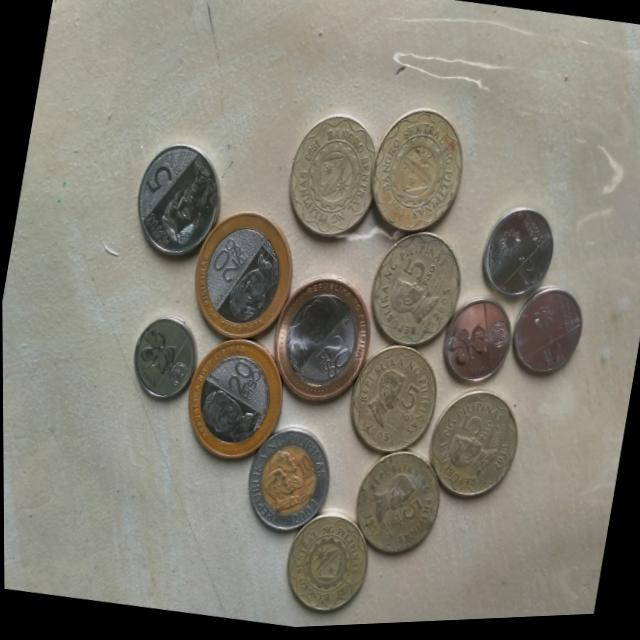10_Old_Front: (284, 447, 321, 493)
20_New_Front: (306, 326, 358, 397)
25Cent_New_Back: (440, 314, 493, 383), (132, 322, 180, 382)
5_New_Front: (136, 139, 193, 216)
5_Old_Back: (279, 508, 374, 622)
5_Old_Front: (387, 375, 426, 426)
